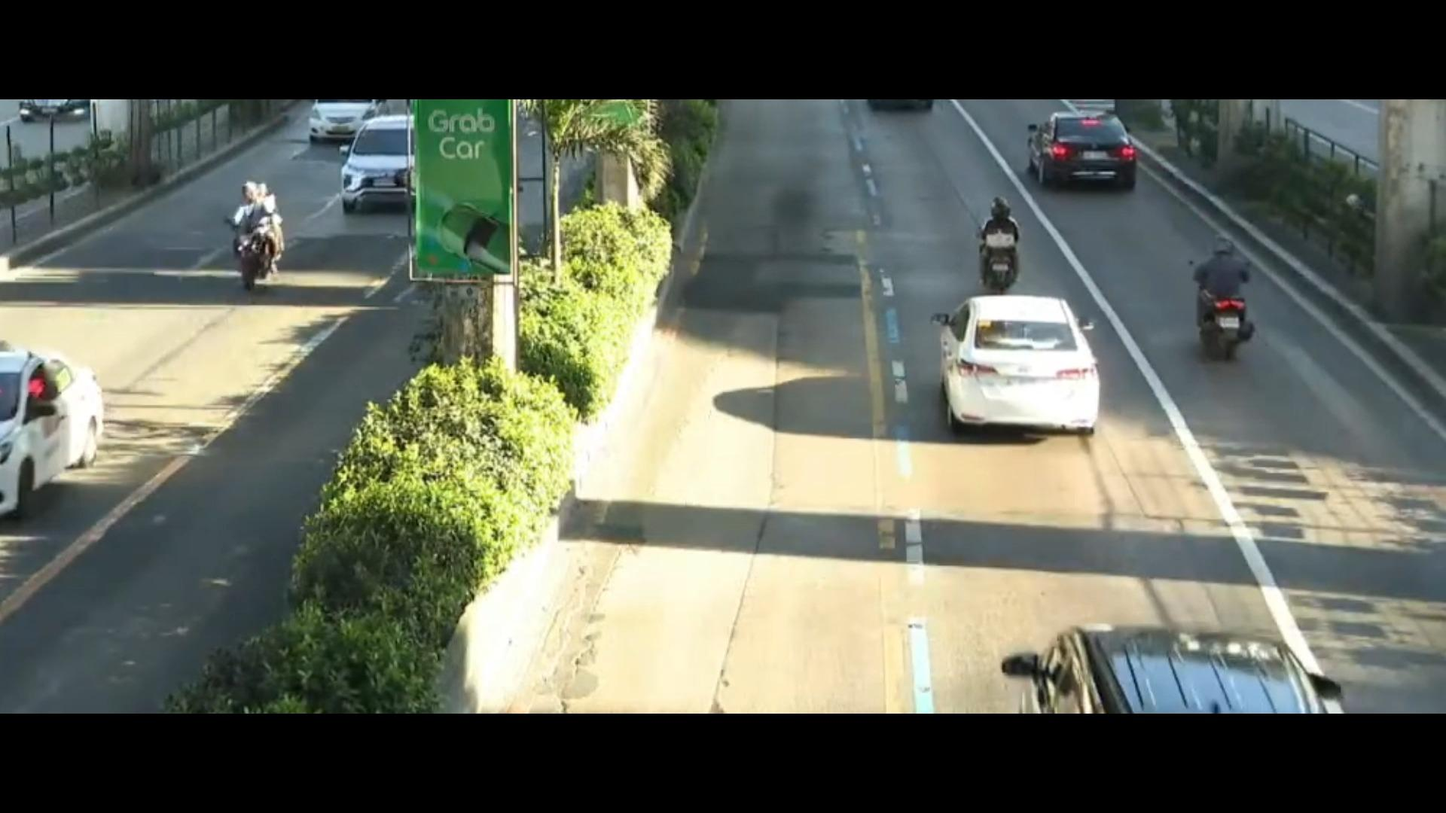Motorcycle: (1149, 211, 1281, 396), (226, 156, 302, 304), (945, 184, 1035, 300)
SUV: (333, 116, 425, 224)
Sedan: (908, 279, 1128, 454), (0, 332, 124, 525), (1010, 93, 1143, 205)
